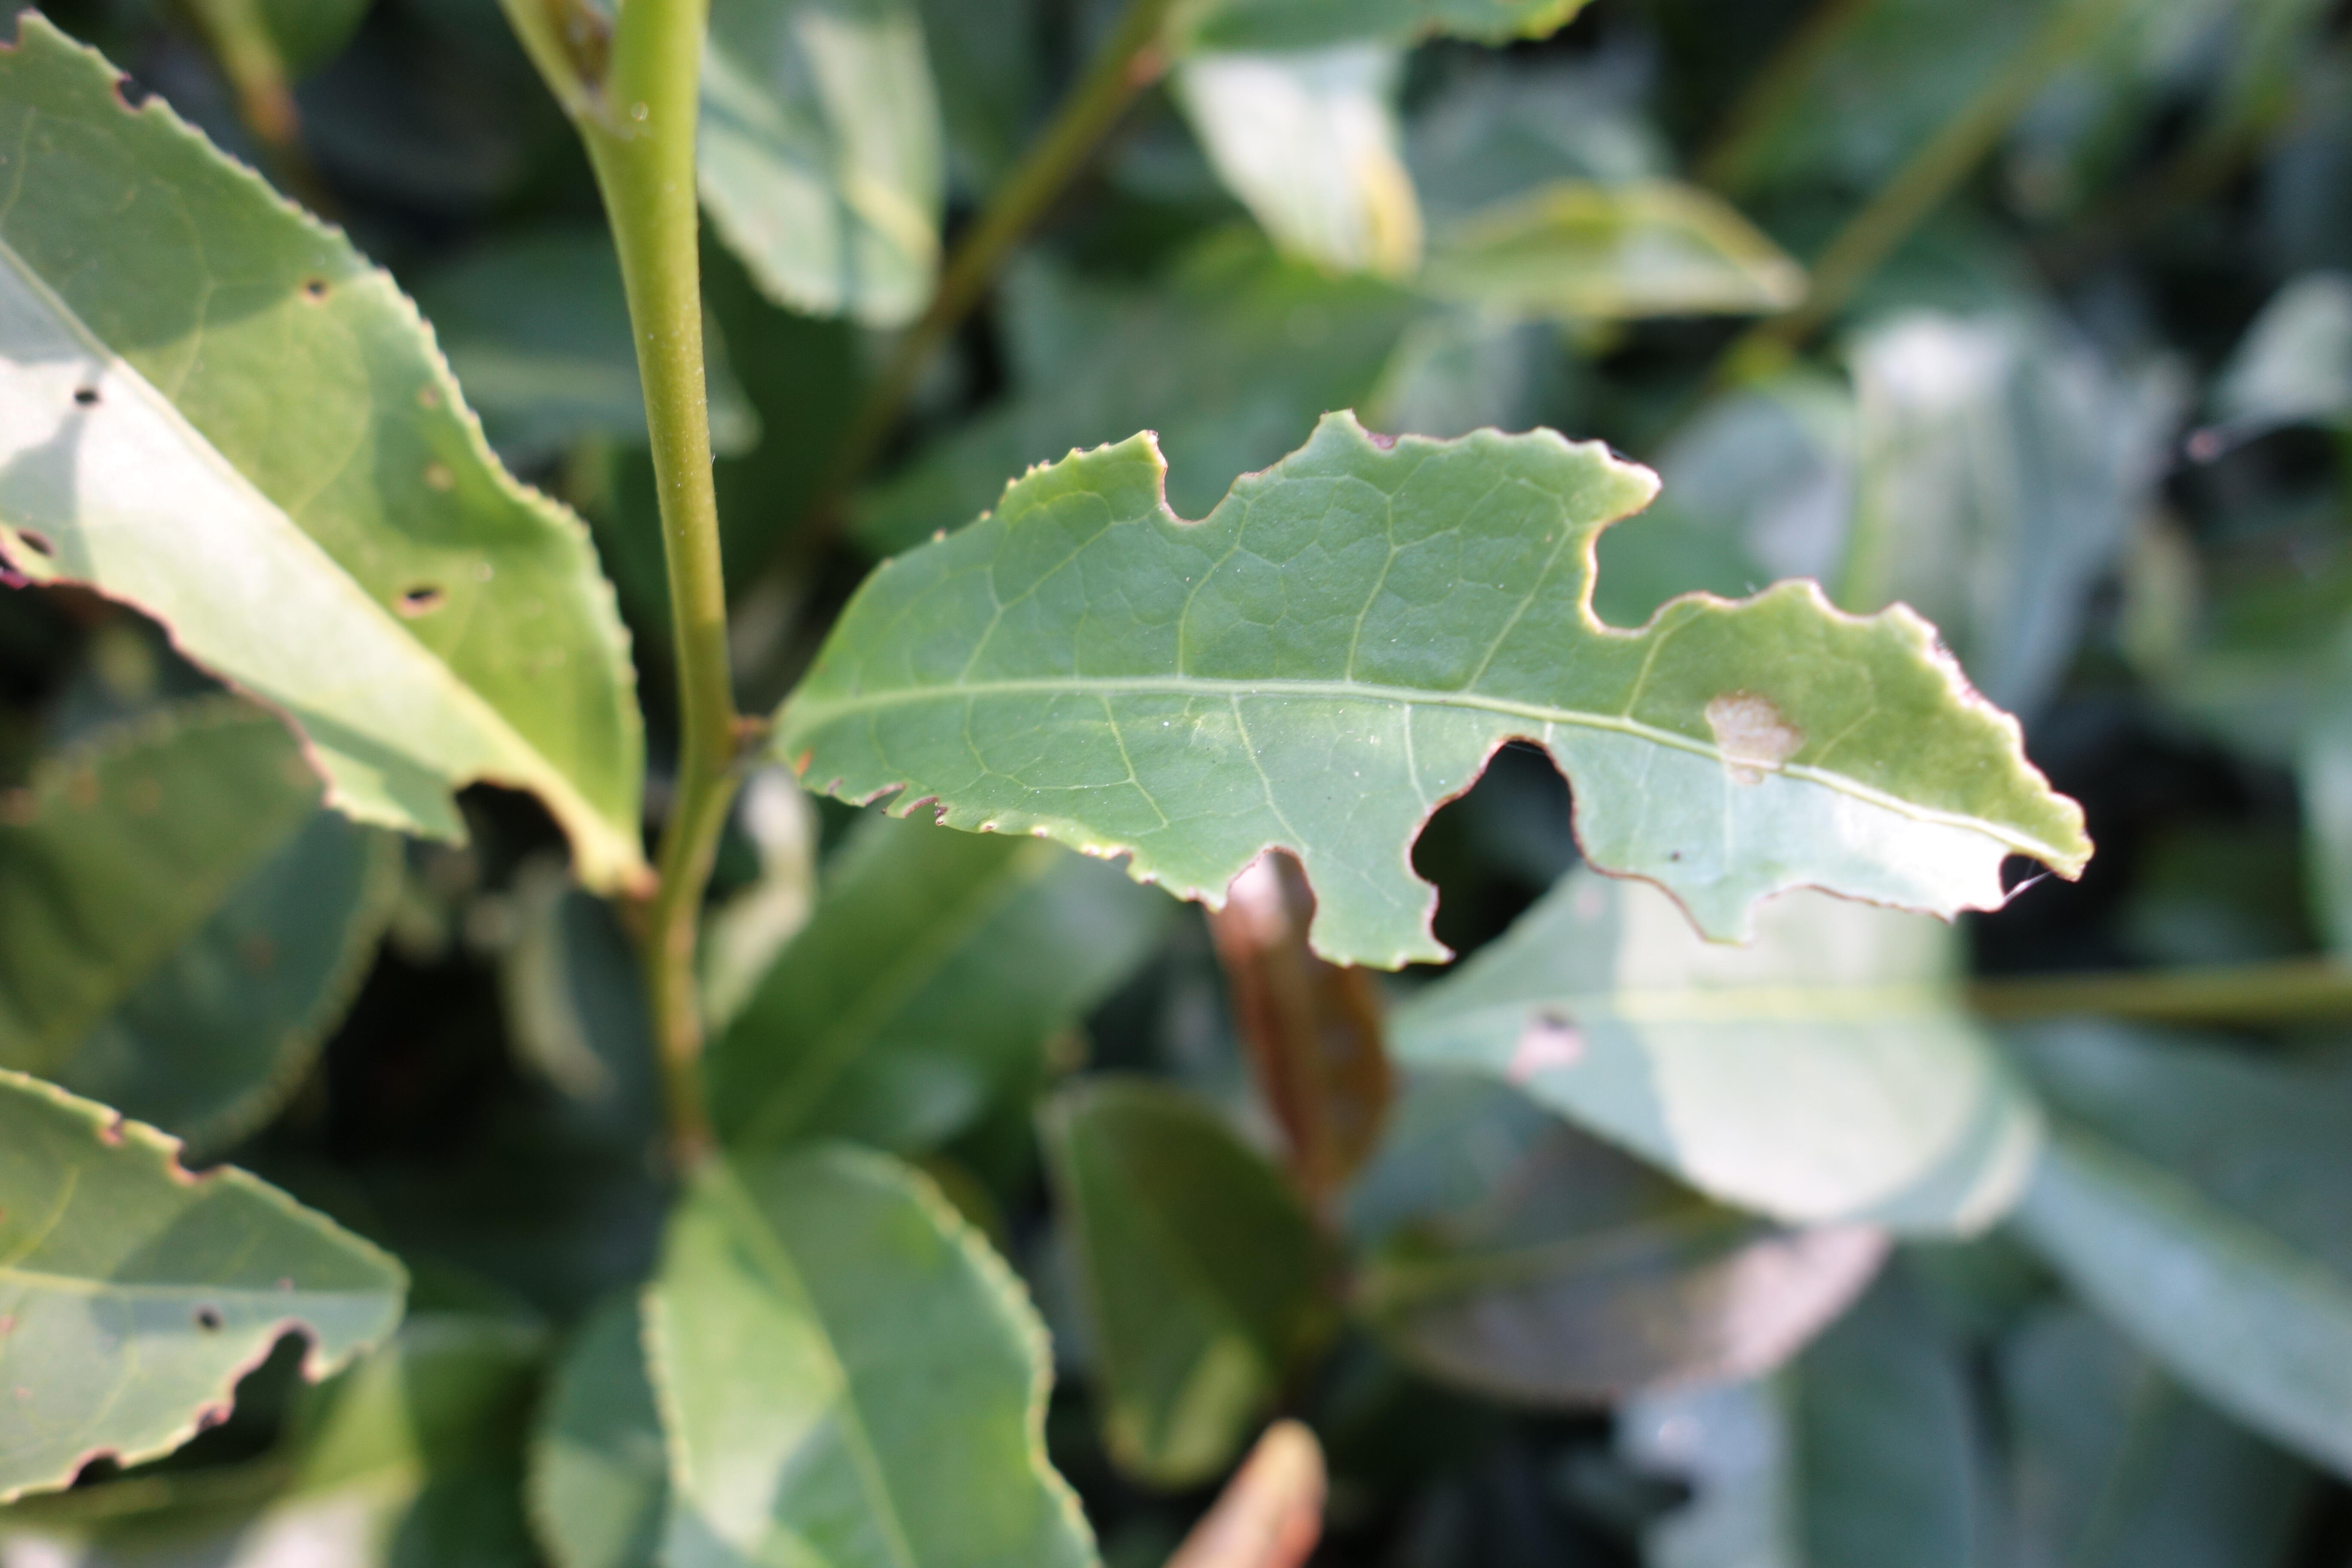chihuo_high: (766, 406, 2105, 978), (0, 10, 653, 901), (0, 1066, 416, 1496)
